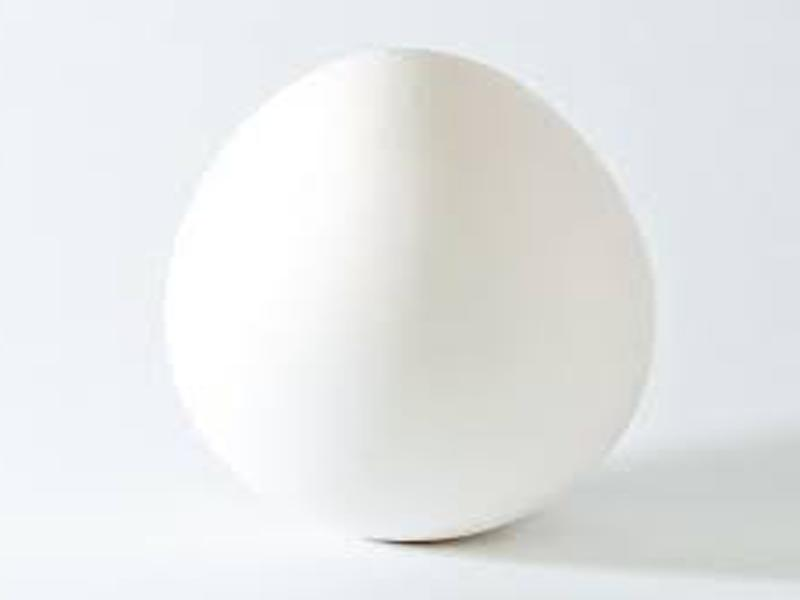Eggs: (166, 46, 650, 541)
